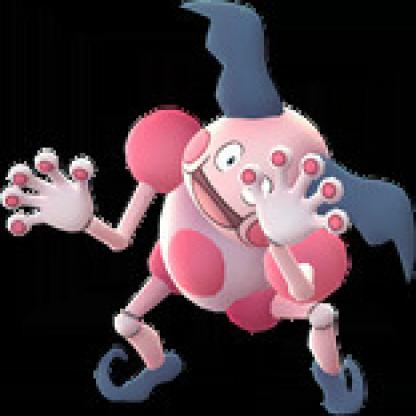Mr. Mime: (14, 2, 407, 416)
